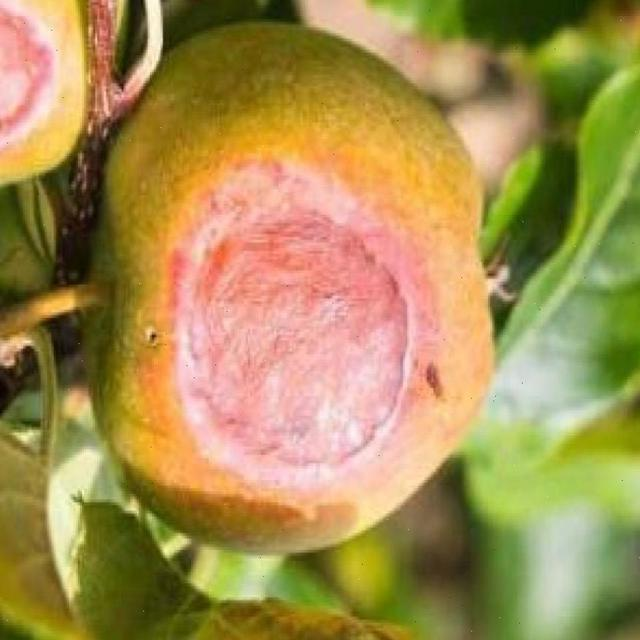Sunscald Fruit: (100, 105, 281, 336)
